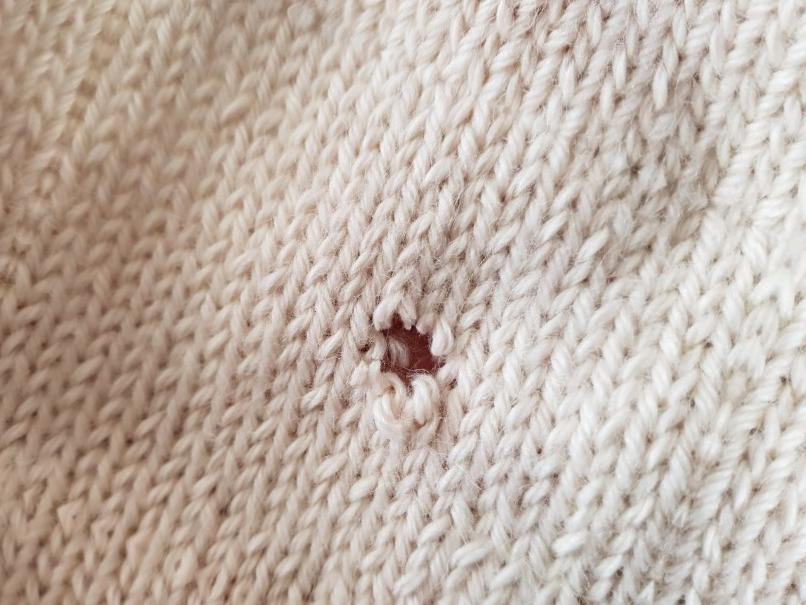hole: (355, 301, 453, 405)
